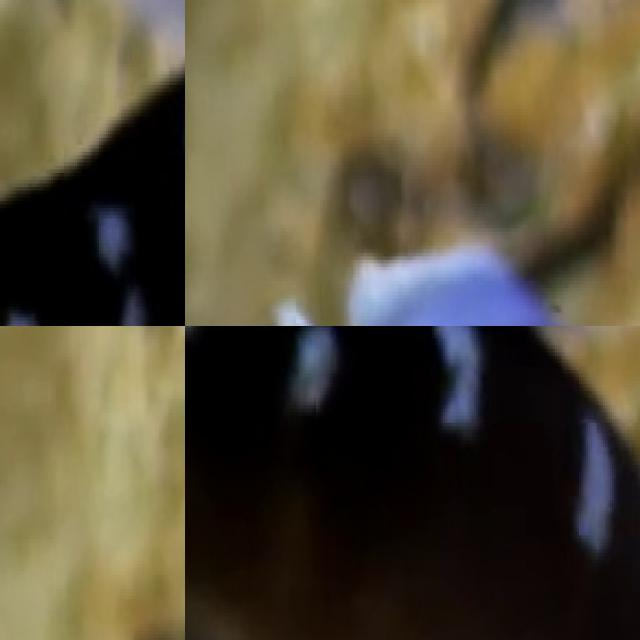fish: (185, 326, 640, 640), (0, 0, 185, 326)
